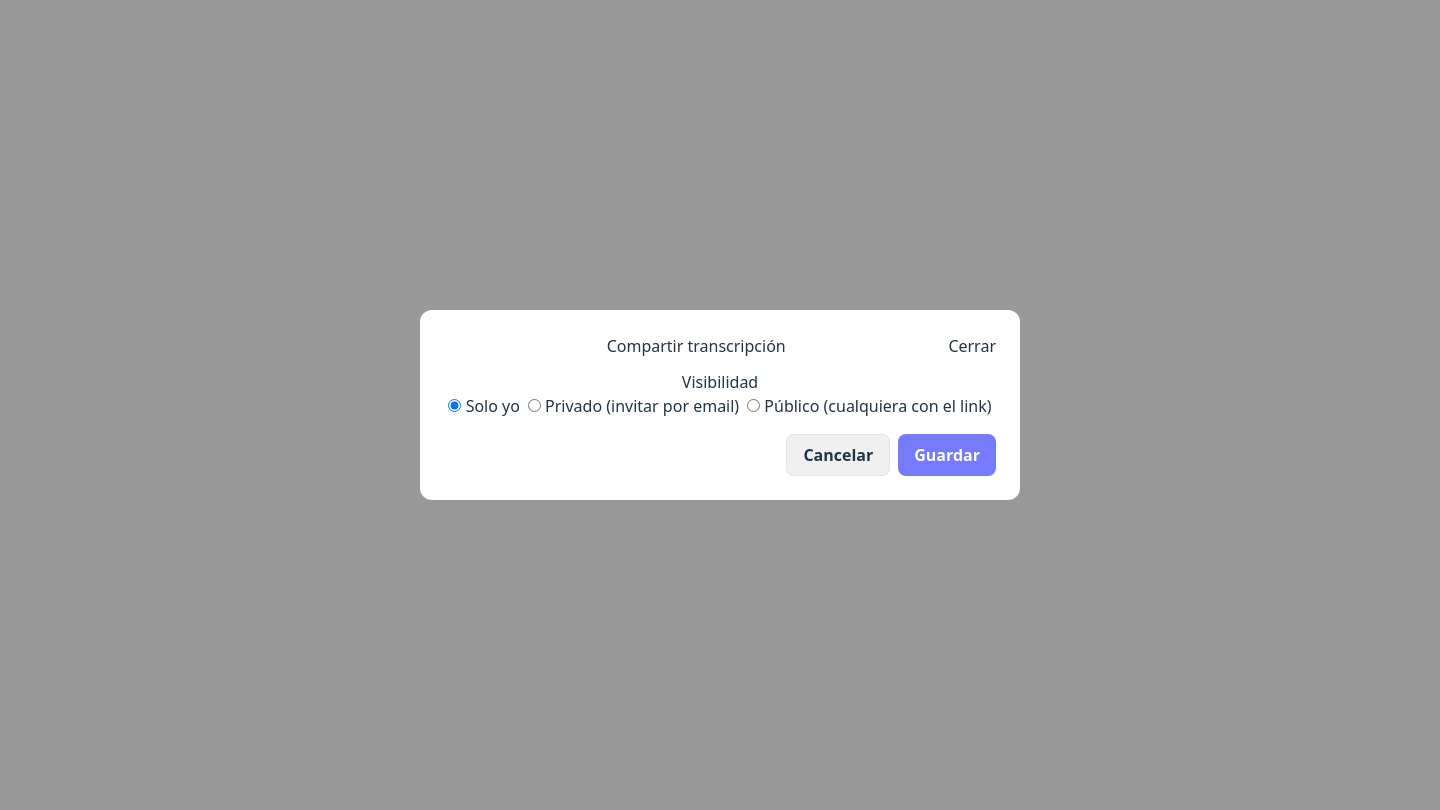
Test: ShareModal › debería guardar cambios exitosamente
Click the radio button labelled "Público (cualquiera con el link)": (754, 406) [747,399,760,412]
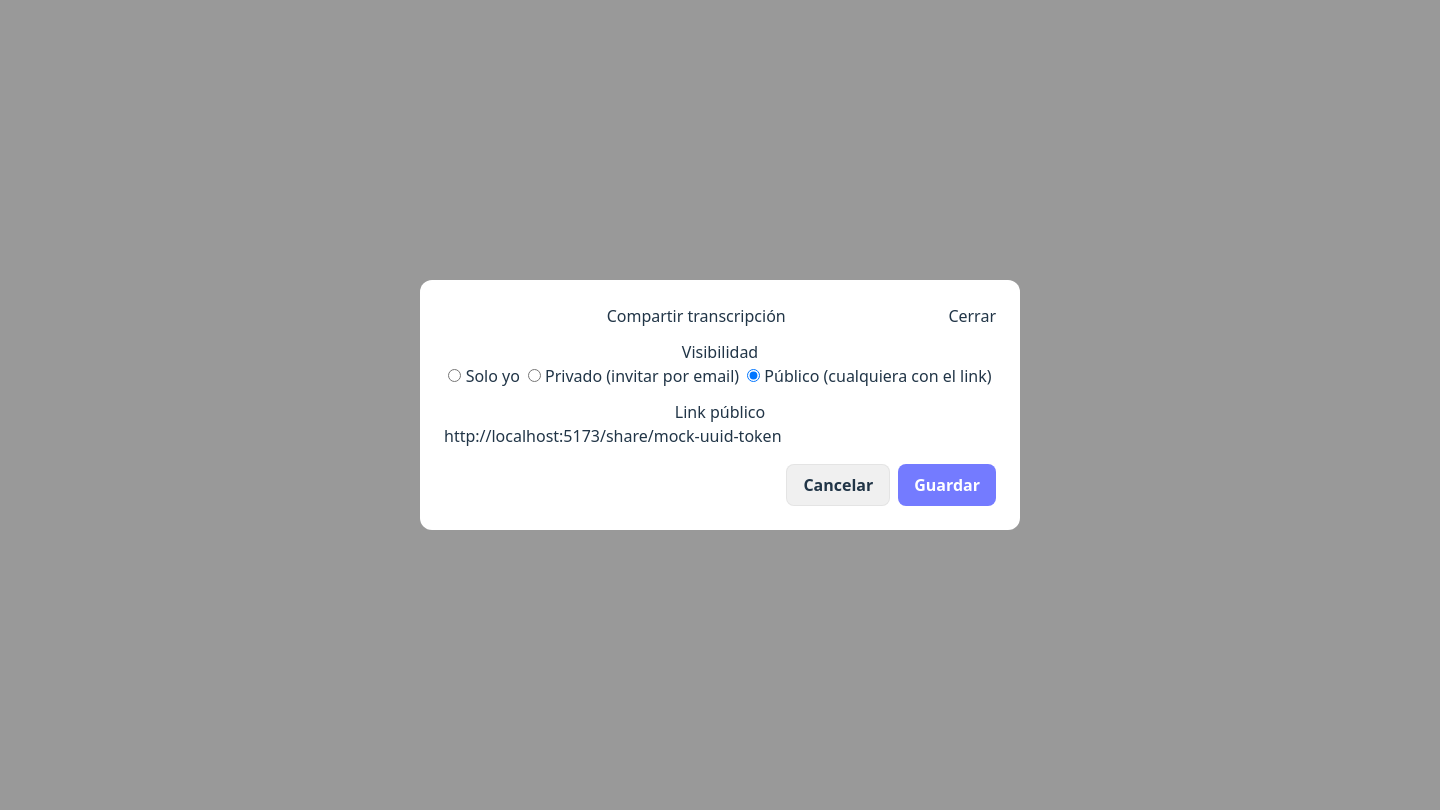
Expected: the button "Guardar" is enabled
Click the button "Guardar": (947, 485) [898,464,996,506]
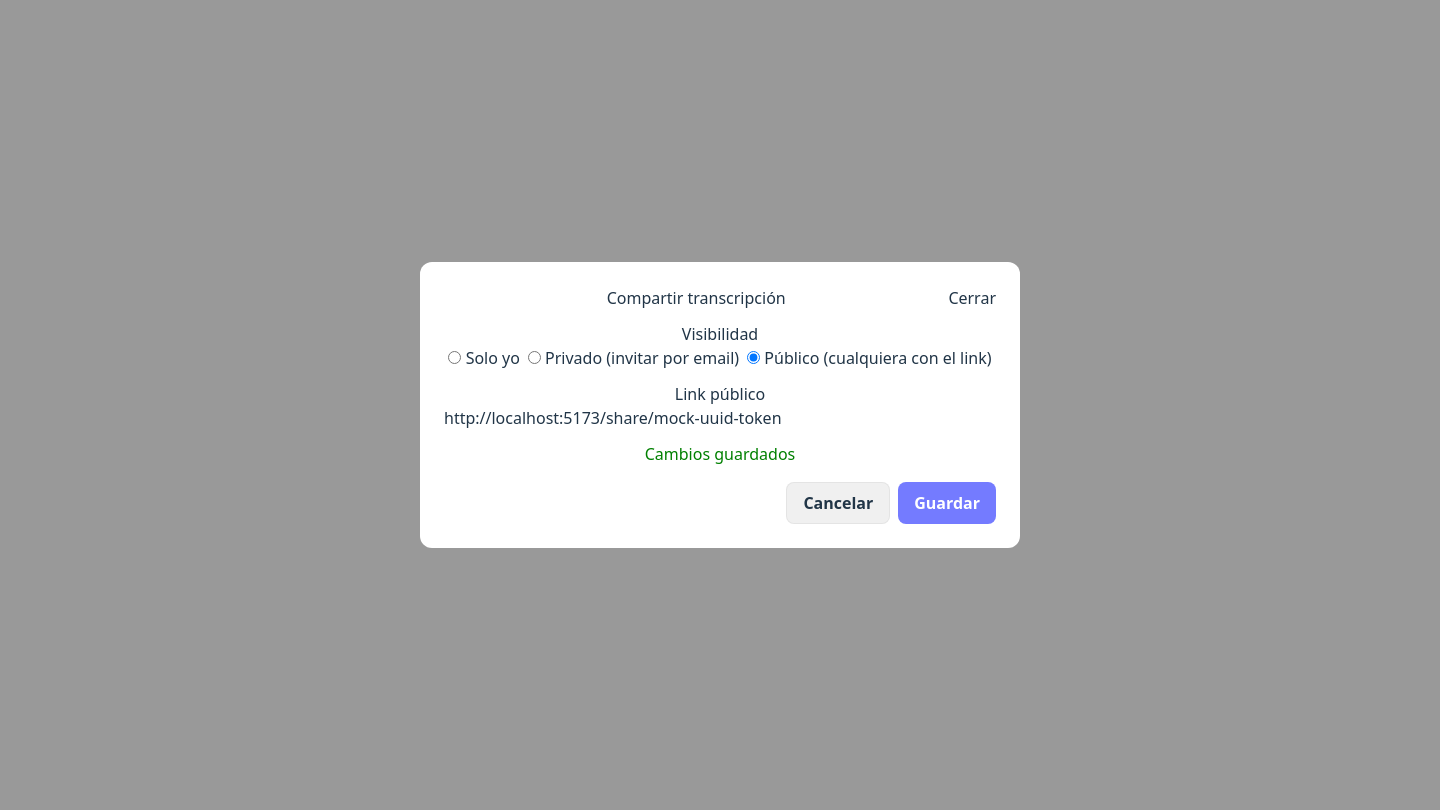
Expected: the text "Cambios guardados" is shown, [645,443,795,465]
